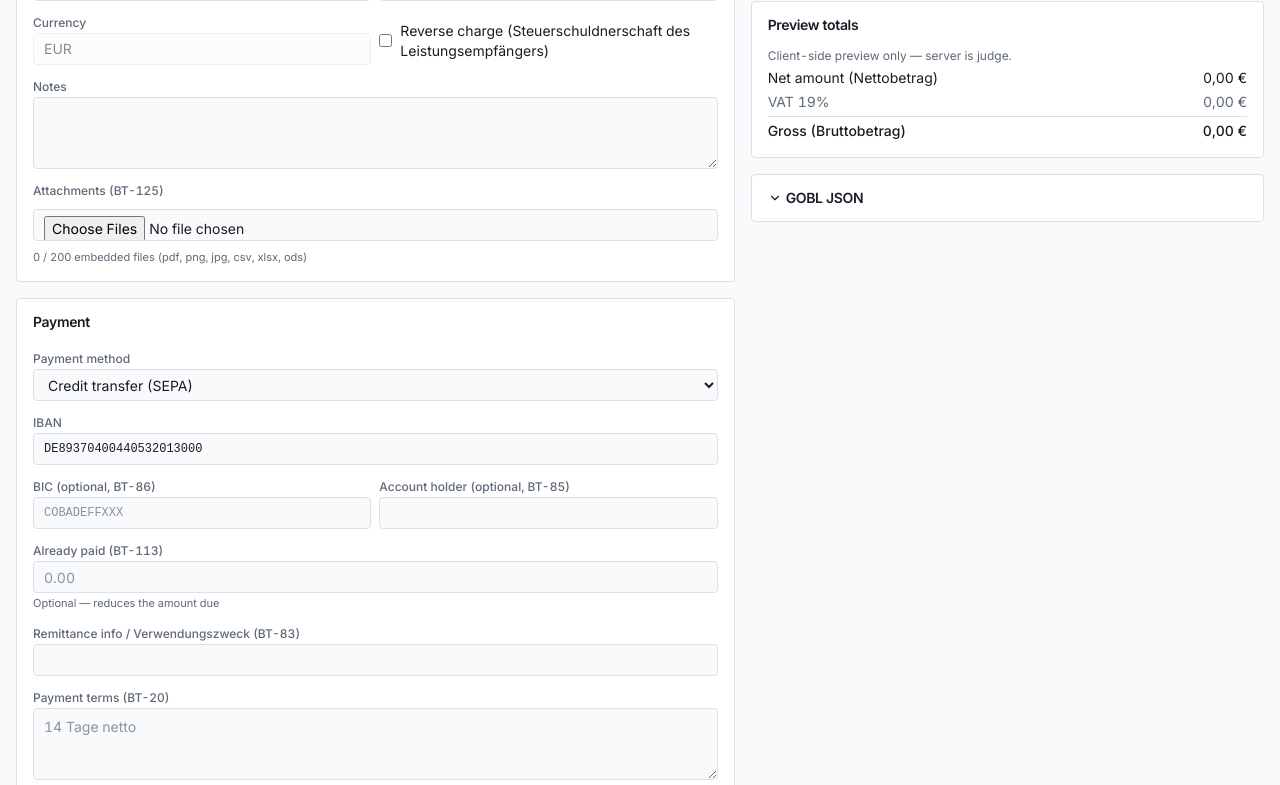
Test: NewInvoicePage › payment method toggle swaps Überweisung / Lastschrift fields
(page scrolled)
expect the field labelled "IBAN" is shown: met, box [33, 433, 718, 465]
expect the field labelled "BIC (optional, BT-86)" is shown: met, box [33, 497, 371, 529]
Select "Direct debit / Lastschrift (SEPA)" in the dropdown labelled "Payment method": (375, 385) [33, 369, 718, 401]
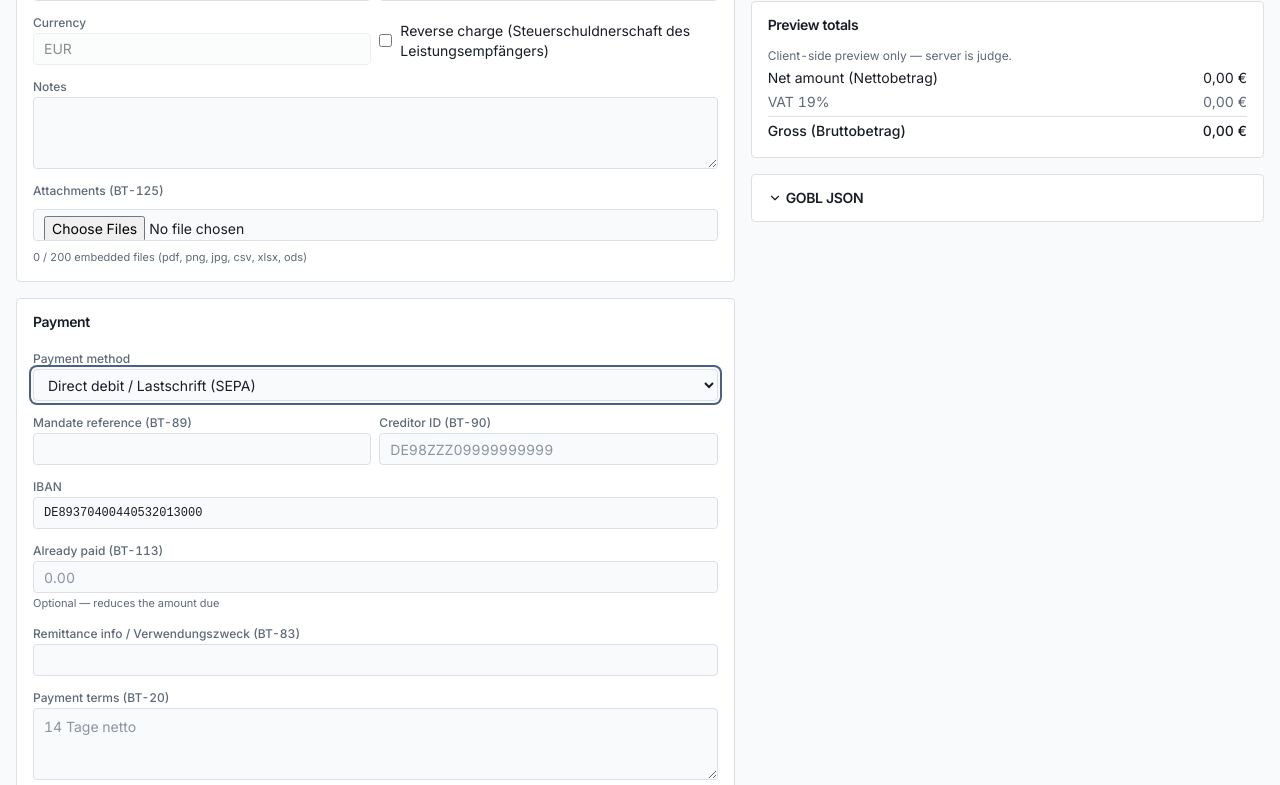
expect the field labelled "Mandate reference (BT-89)" is shown: met, box [33, 433, 371, 465]
expect the label labelled "BIC" is gone: met
